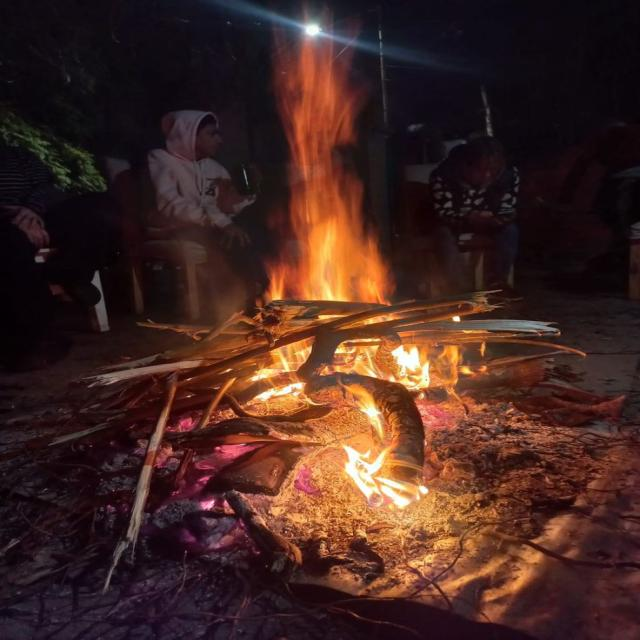fire: (263, 21, 391, 306), (342, 443, 412, 509), (250, 336, 312, 379), (392, 345, 431, 390), (331, 341, 378, 378)
